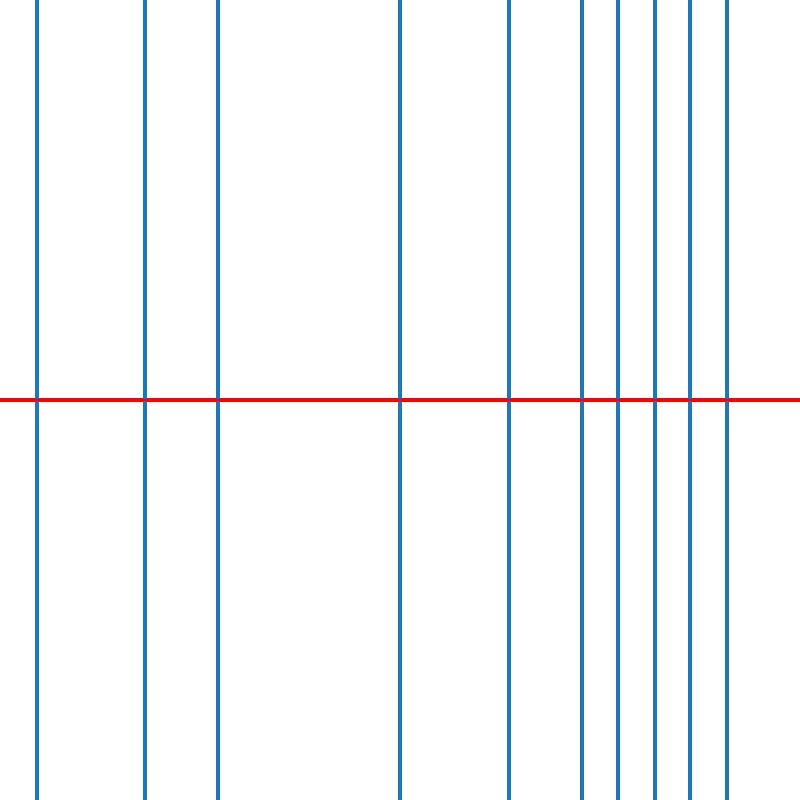root: (32, 396, 40, 404), (650, 396, 658, 404), (141, 396, 149, 404), (578, 396, 585, 404), (214, 396, 221, 404), (687, 396, 694, 404), (505, 396, 512, 404), (723, 396, 730, 404), (614, 396, 621, 404), (396, 396, 403, 404)
